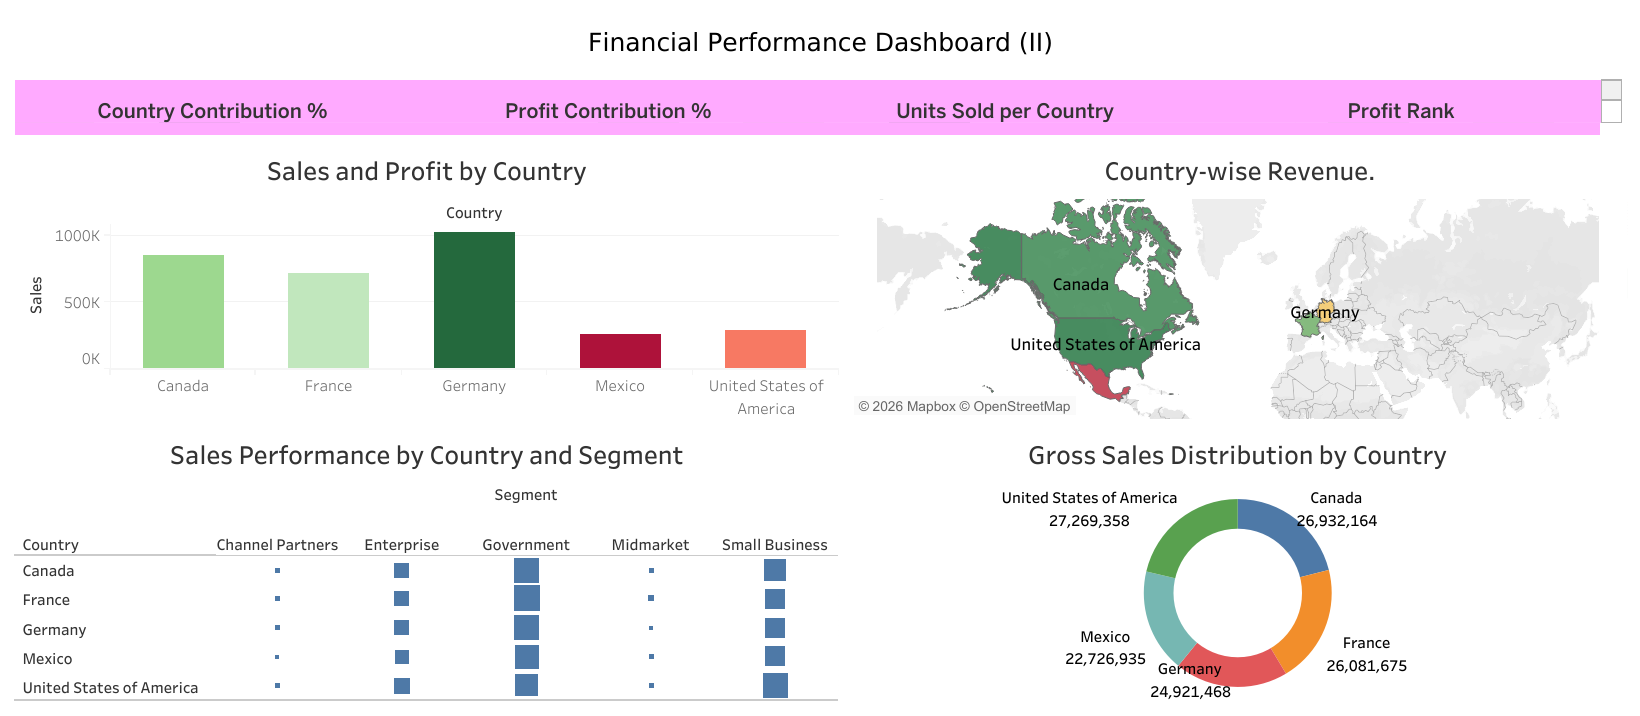

This screenshot's page, from the dashboard's own definition file:
{"tool":"tableau","page":{"name":"Dashboard 2","canvas":[1000,1000],"units":"permille","ordinal":1},"visuals":[{"type":"text","box":[4.2,8.1,991.7,91.5]},{"type":"worksheet","title":"KPI -2","mark":"Text","cols":["Calculation_1421709216038924","Calculation_1421709216063502","Calculation_1421709216165904","Calculation_1421709216202770"],"box":[4.2,99.5,991.7,91.5]},{"type":"worksheet","title":"Sales and Profit by Country","mark":"Bar","rows":["Sales "],"cols":["Country"],"box":[4.2,191,510.2,400.4]},{"type":"worksheet","title":" Country-wise Revenue.","mark":"Automatic","box":[514.4,191,481.4,400.4]},{"type":"worksheet","title":"Sales Performance by Country and Segment","mark":"Square","rows":["Country"],"cols":["Segment"],"box":[4.2,591.5,510.2,400.5]},{"type":"worksheet","title":"Gross Sales Distribution by Country","mark":"Pie","cols":["Calculation_1125393617174530","Calculation_1125393617195012"],"box":[514.4,591.5,481.4,400.5]}]}

Visuals, with their boxes on the dashboard's canvas, which has no fixed pixel size, in thousandths of its width and height (x1, y1, x2, y2). These are canvas units, not pixel positions in the 1640x716 screenshot, which may show the page scaled, cropped or inside an application window:
text: Rect(4, 8, 996, 100)
"KPI -2" worksheet (Text marks): Rect(4, 100, 996, 191)
"Sales and Profit by Country" worksheet (Bar marks): Rect(4, 191, 514, 591)
" Country-wise Revenue." worksheet: Rect(514, 191, 996, 591)
"Sales Performance by Country and Segment" worksheet (Square marks): Rect(4, 592, 514, 992)
"Gross Sales Distribution by Country" worksheet (Pie marks): Rect(514, 592, 996, 992)
